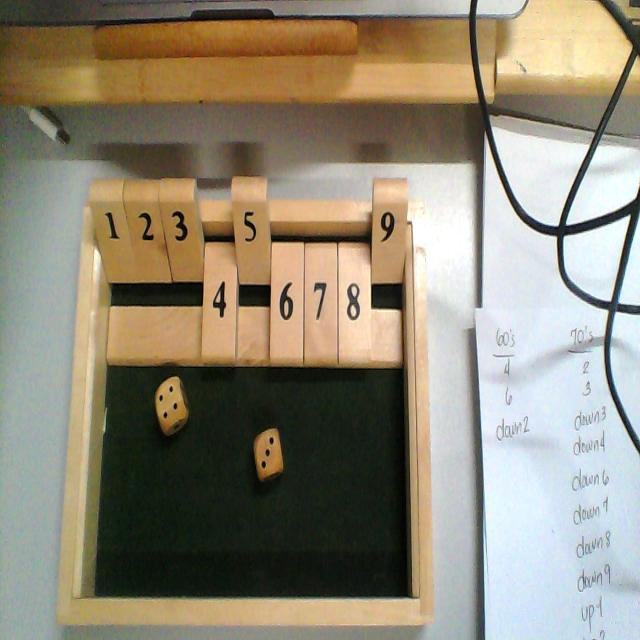3: (246, 419, 290, 490)
4: (149, 372, 190, 437)
C4: (204, 199, 236, 369)
C6: (269, 200, 304, 366)
C7: (304, 200, 337, 368)
C8: (339, 202, 372, 372)
O1: (89, 180, 127, 370)
O2: (124, 180, 170, 364)
O3: (162, 178, 204, 366)
O5: (232, 175, 269, 368)
O9: (374, 180, 405, 368)
